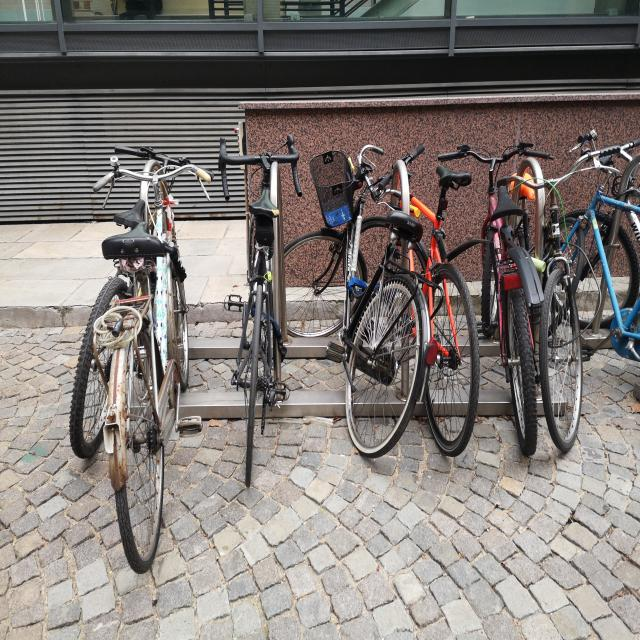Bicycle: (97, 126, 214, 571), (316, 109, 423, 472), (375, 127, 476, 478), (222, 95, 288, 512), (542, 188, 640, 410), (474, 160, 542, 474), (64, 138, 122, 484), (574, 122, 620, 231)
